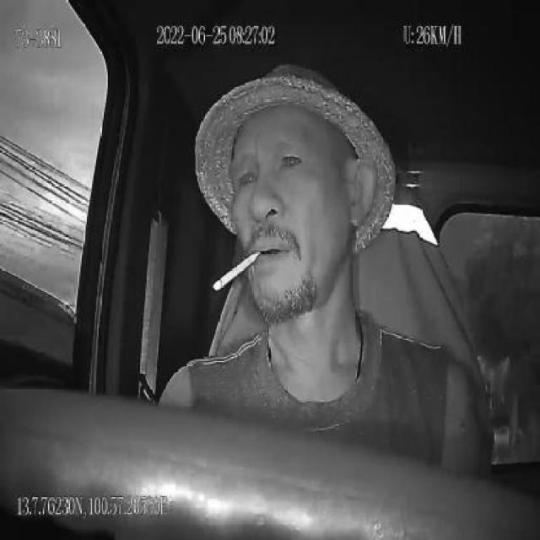smoking: (211, 249, 261, 296)
